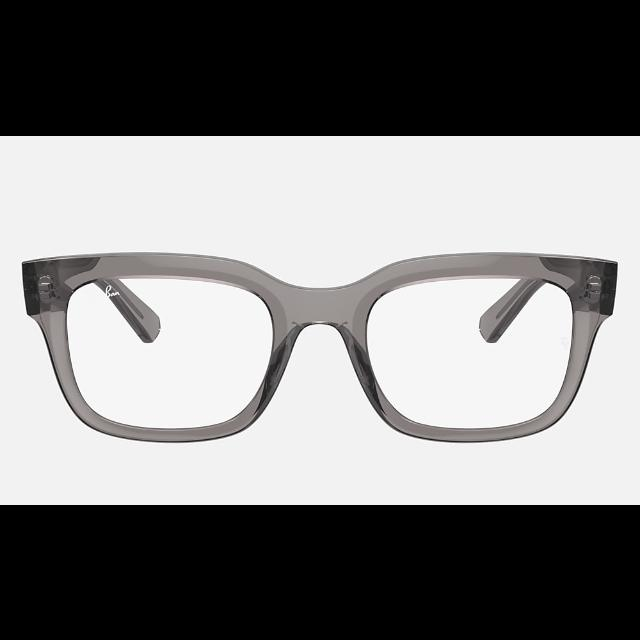glasses: (23, 252, 617, 442)
